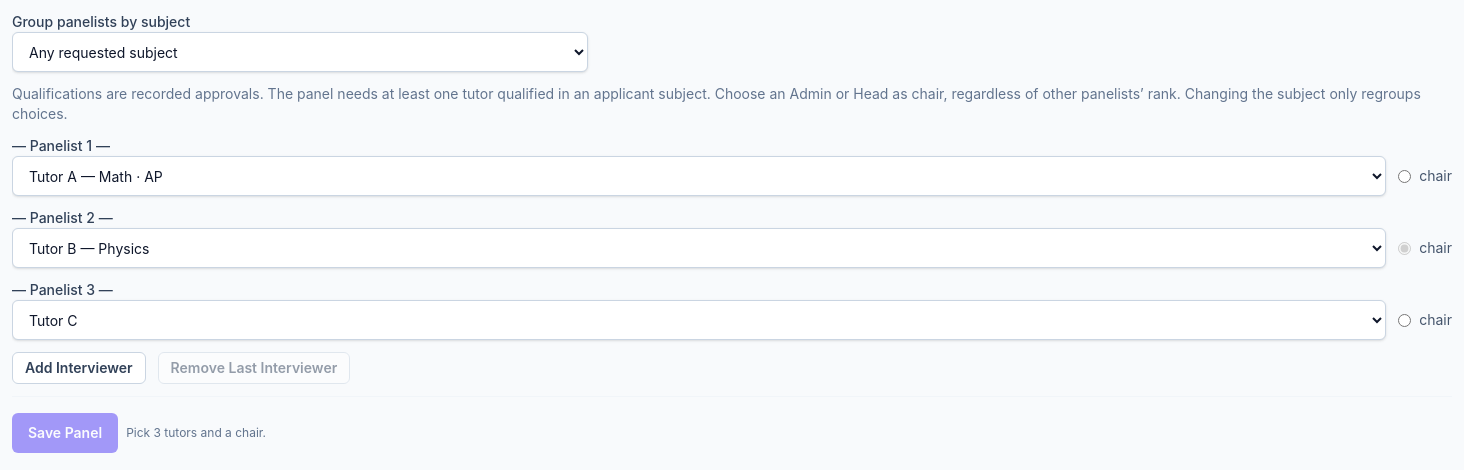
Scenario: retains a former non-management chair without permitting the old chair assignment to be saved
Expected: the radio button with aria-label "Choose panelist 2 as chair" is checked, [1398,242,1411,254]
Expected: the radio button with aria-label "Choose panelist 2 as chair" is disabled, [1398,242,1411,254]
Click the radio button with aria-label "Choose panelist 3 as chair" at (1405, 320), box [1398,314,1411,326]
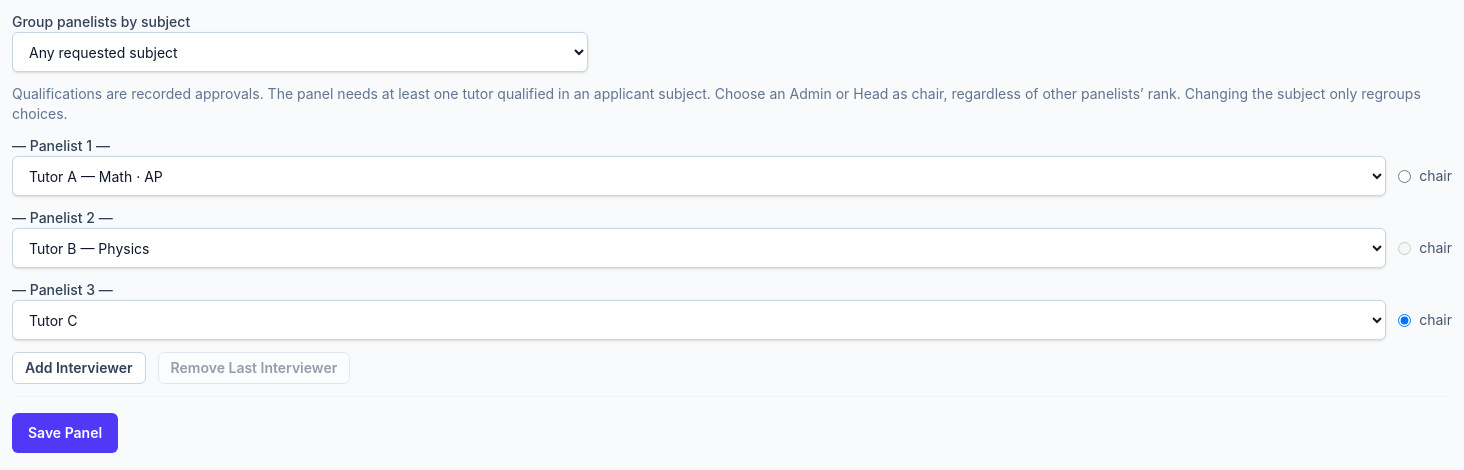
Result: the button "Save Panel" is enabled at [12,413,118,453]
